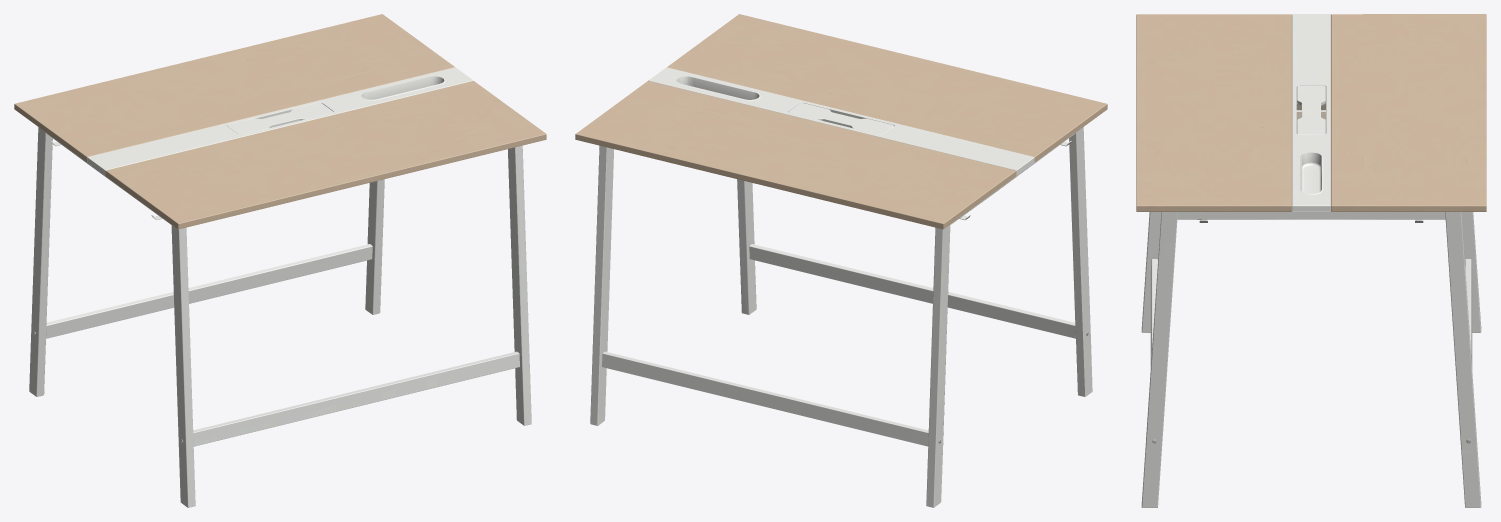
Rendered from 90 - MITTZON - 會議桌, 實木貼皮, 樺木白色 140x108x105 公分 IKEA 線上購物.glb.
The picture shows the model from 3 angles, left to right: view 1: azimuth 30°, elevation 25°; view 2: azimuth 150°, elevation 25°; view 3: azimuth 270°, elevation 25°; orthographic projection. The views are drawn at different scales.
Parts seen in each view (by area): view 1: model.001; view 2: model.001; view 3: model.001.
Boxes of the visible parts, x1,y1,x2,y2 form: model.001: [14, 14, 546, 507]; model.001: [575, 14, 1107, 507]; model.001: [1136, 14, 1486, 507].
Bounding box in the file's own units: 1.4 × 1.05 × 1.08.
1 material, 1 textured.
